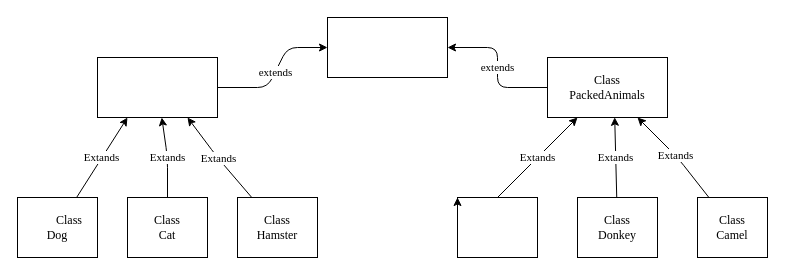
Image size: 785x275. Some labels were removed from this diagram. Here are the shapes that lost their labels. From the top down, the centre of each, then its label:
the point at 387,47: Class Aimals
the point at 157,87: Class HomeAnimals
the point at 497,227: Class Horse
